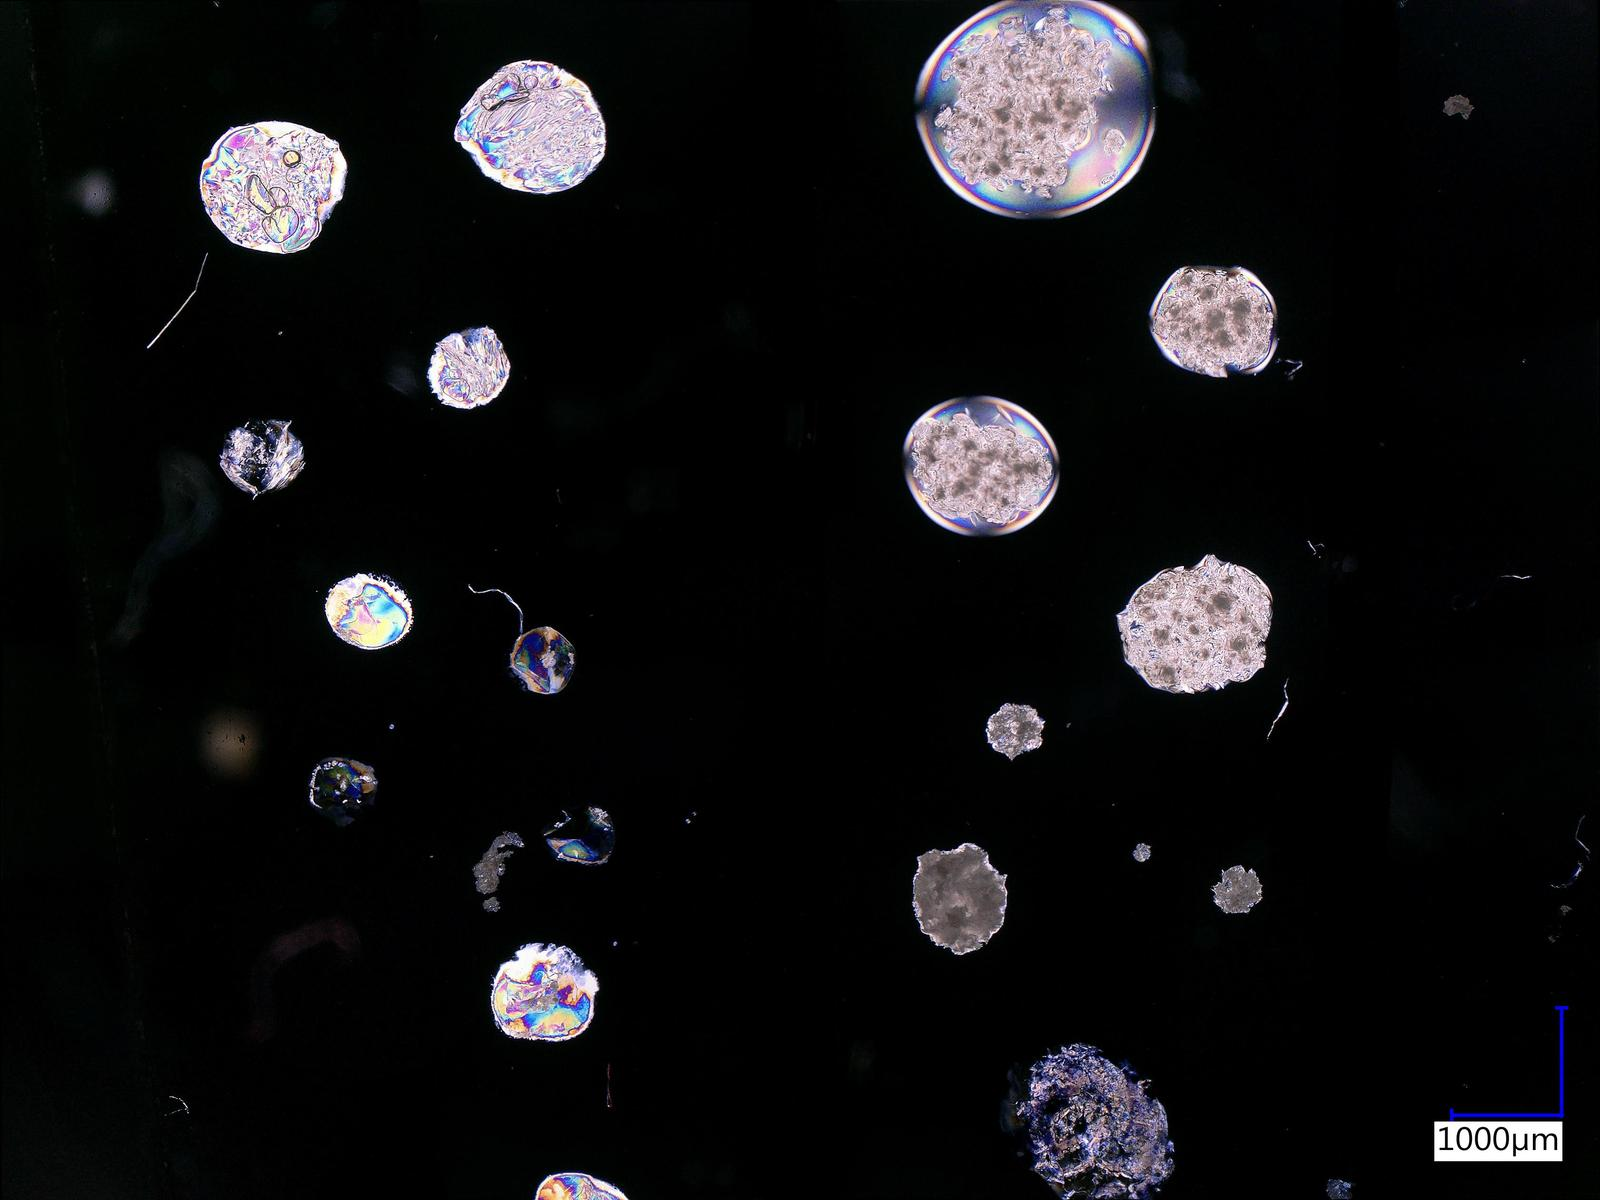sediment: (951, 18, 1094, 184), (1121, 563, 1270, 691), (911, 416, 1042, 519), (1154, 270, 1271, 367), (913, 846, 1008, 954), (986, 705, 1044, 758), (1212, 866, 1262, 913)
